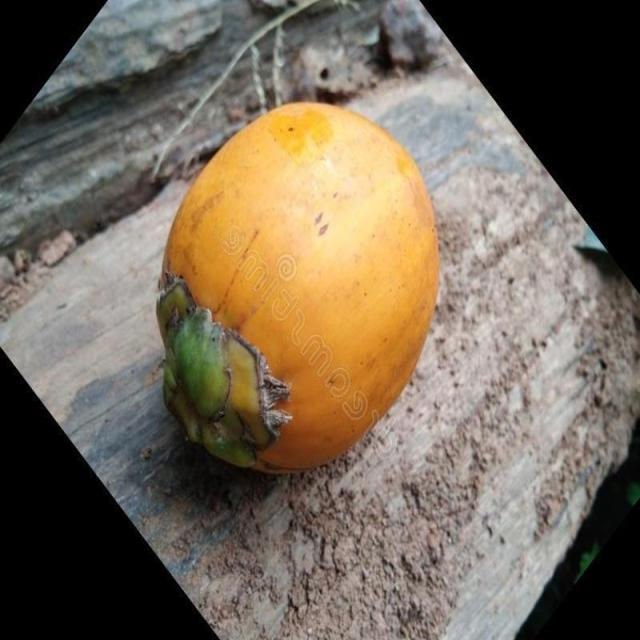good: (156, 102, 440, 477)
